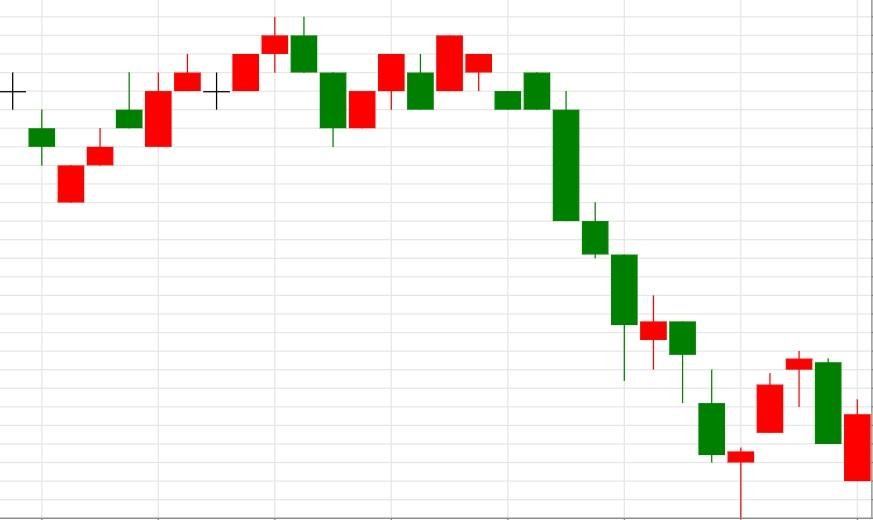bearish_engulfing_fall: (56, 17, 318, 204)
